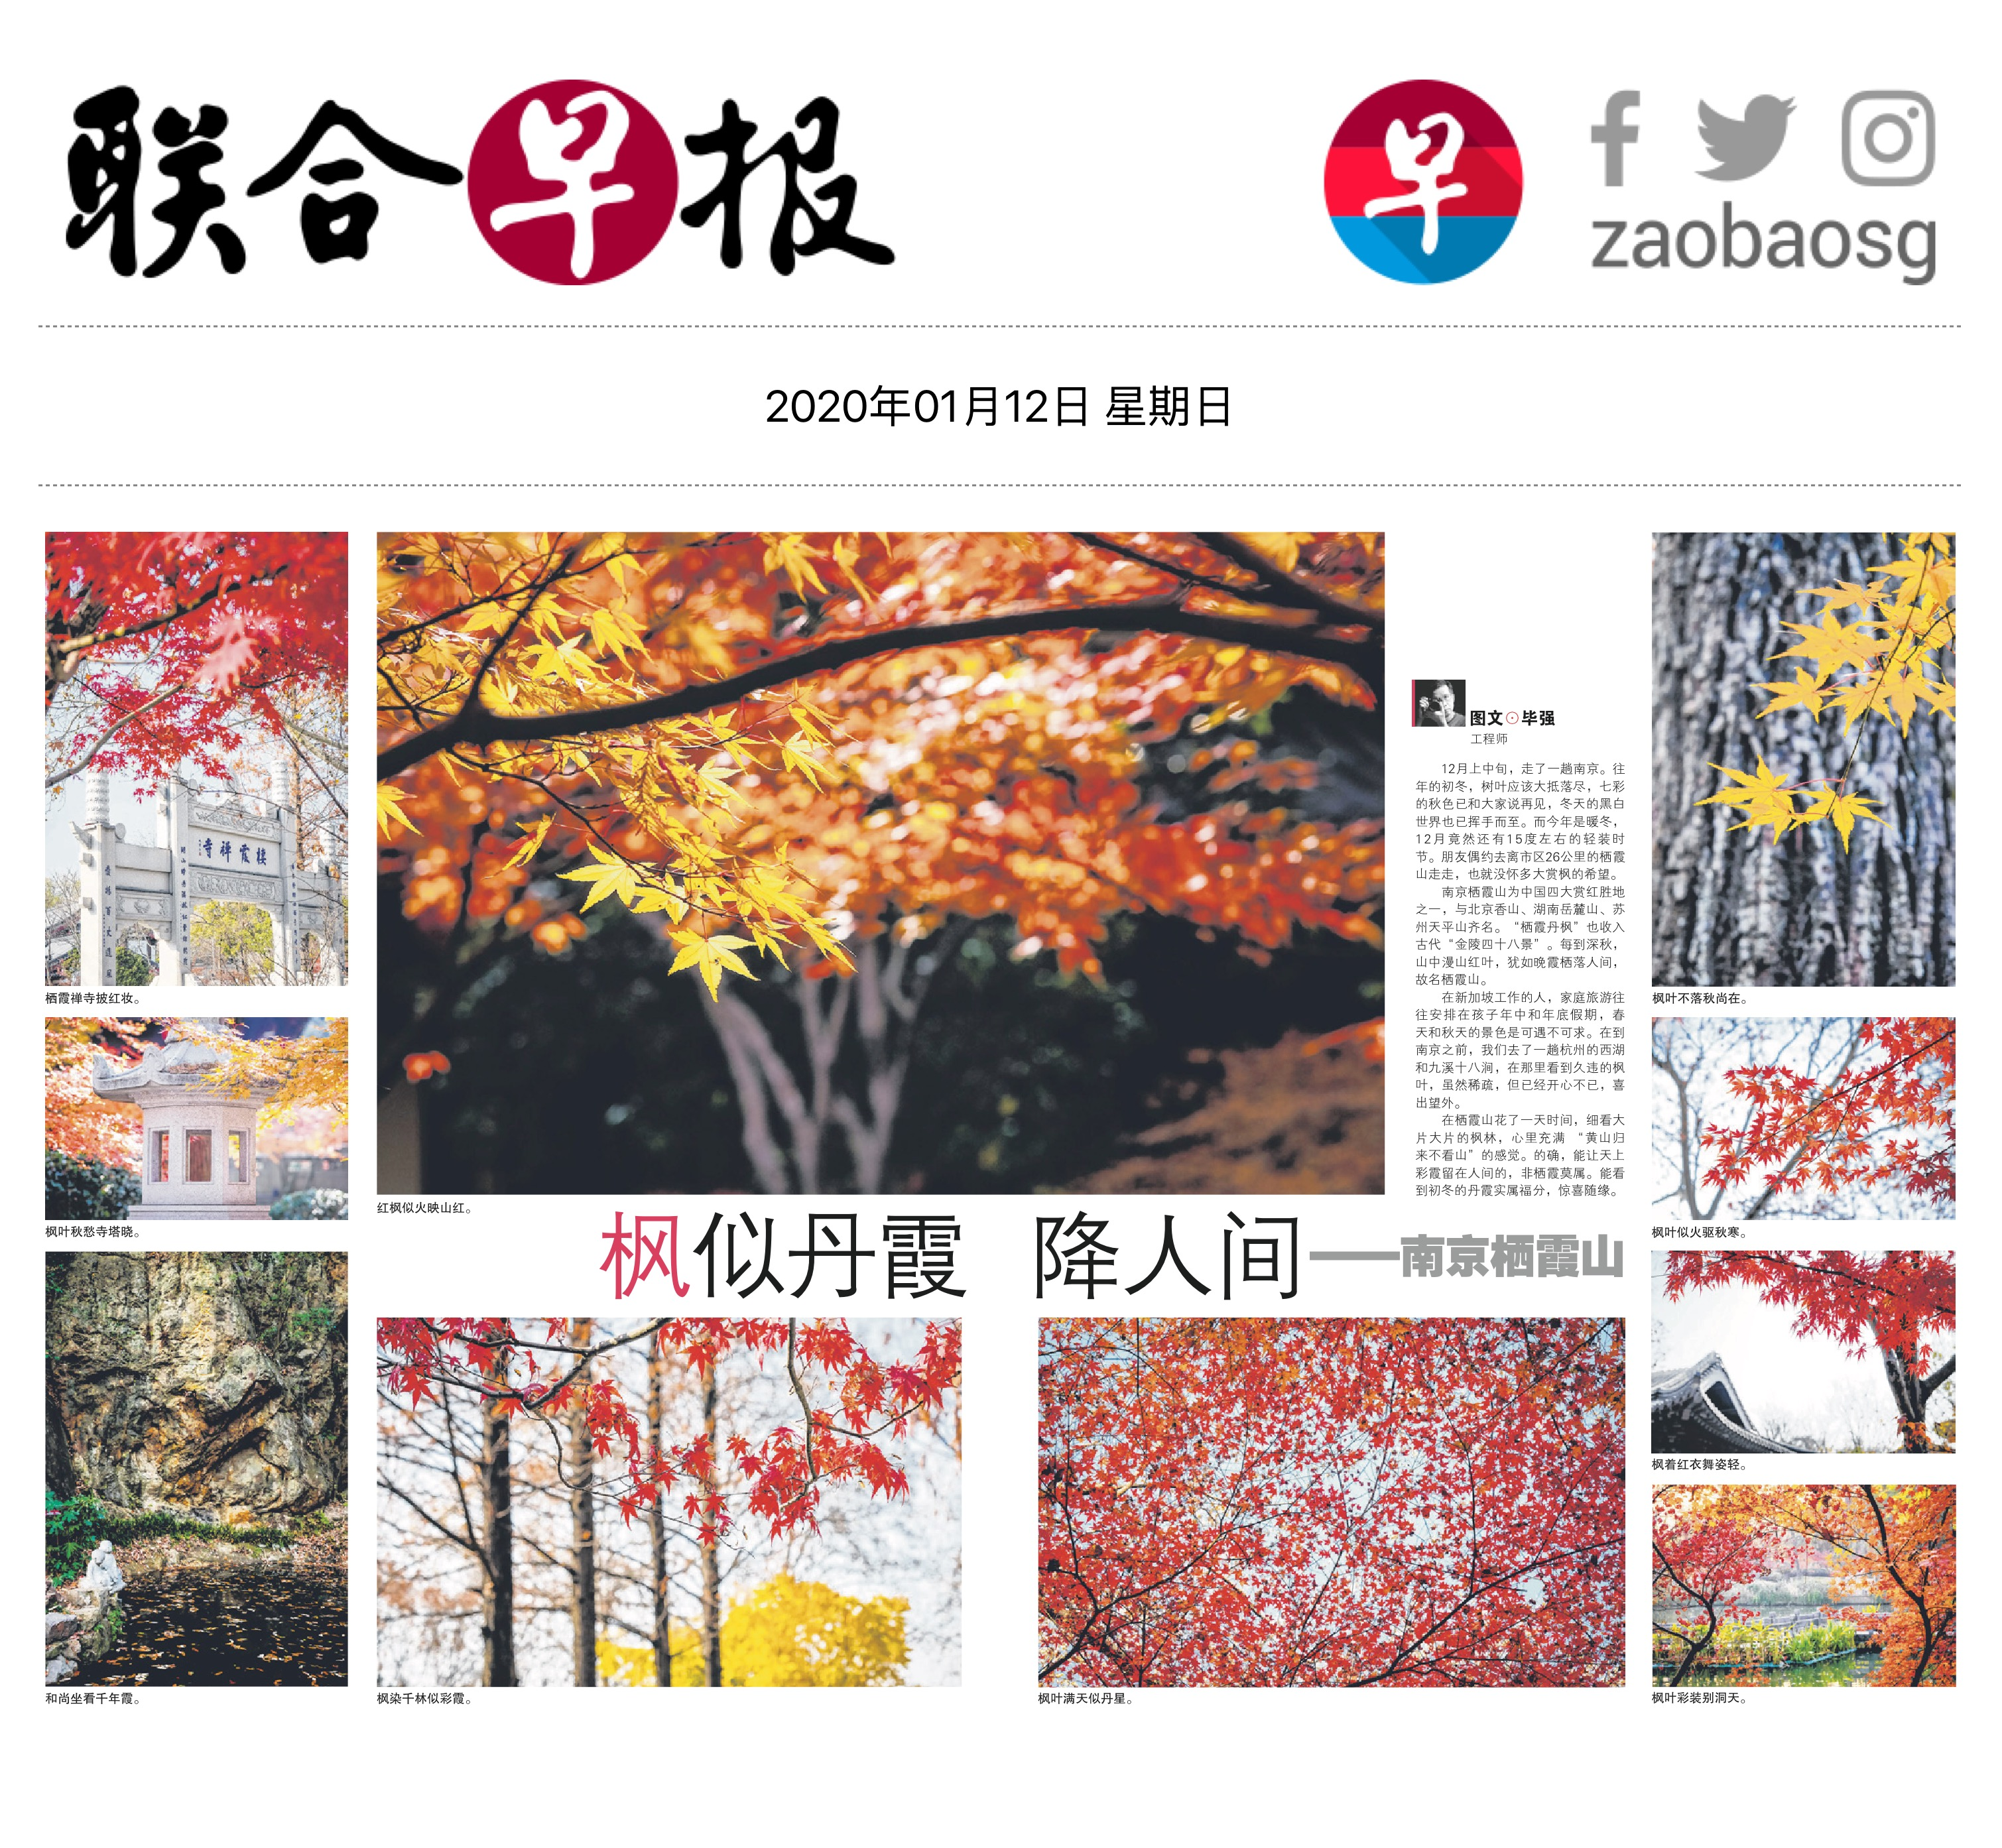heading: (575, 1201, 1315, 1316)
